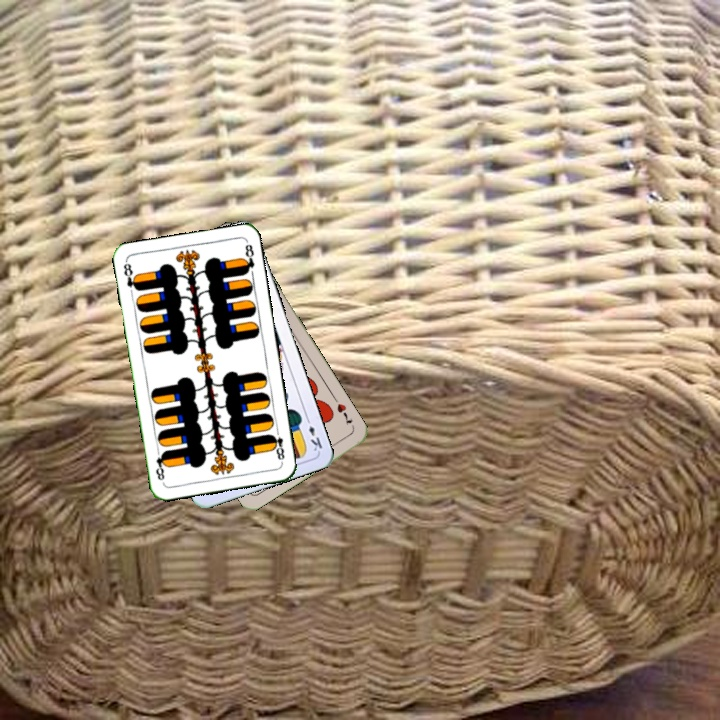E8: (267, 425, 287, 465), (119, 258, 141, 293)
EK: (302, 413, 325, 454)
H7: (333, 399, 355, 428)
